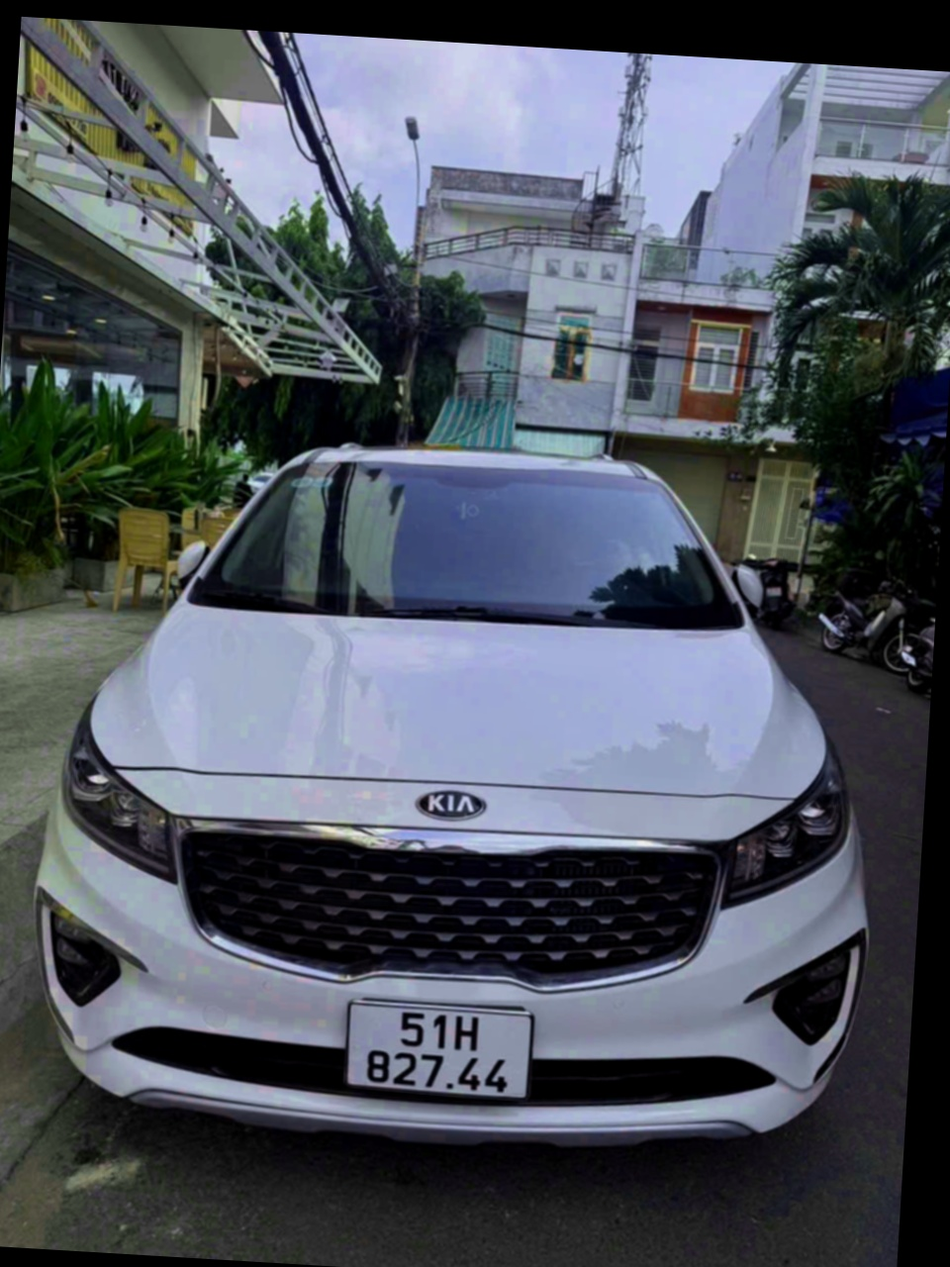Bien-so: (364, 977, 560, 1091)
